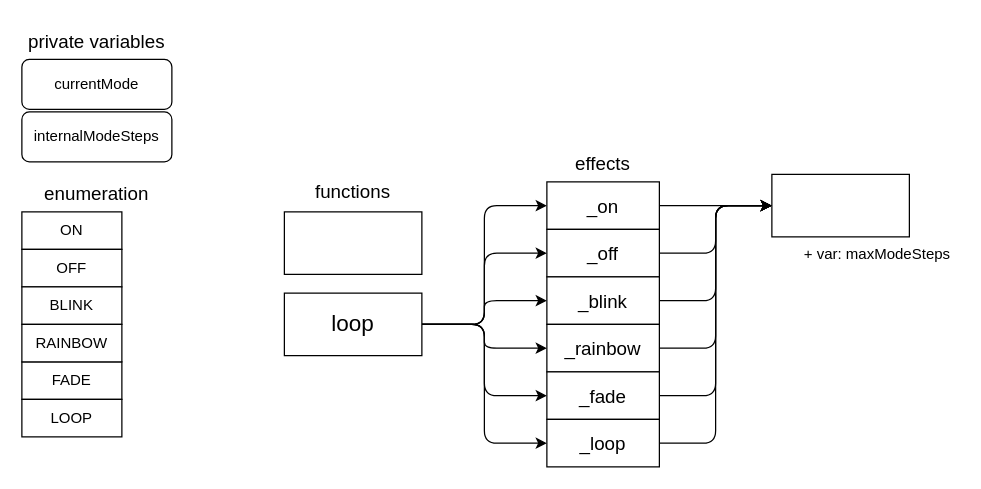
This 981x489 diagram has some shape labels left out. Each missing label, with the centre of its shape:
setup: (352,242)
«interface» funktion: (840,205)
